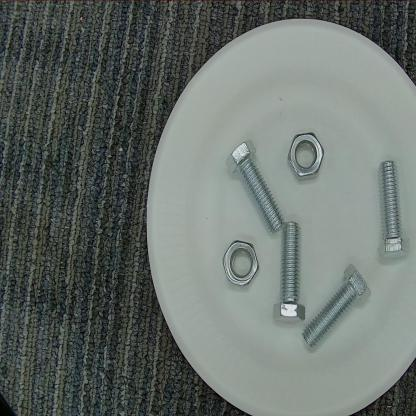FOD: (214, 134, 291, 247), (293, 258, 374, 350), (363, 150, 413, 276), (269, 212, 307, 330), (284, 124, 332, 187), (217, 238, 264, 291)
